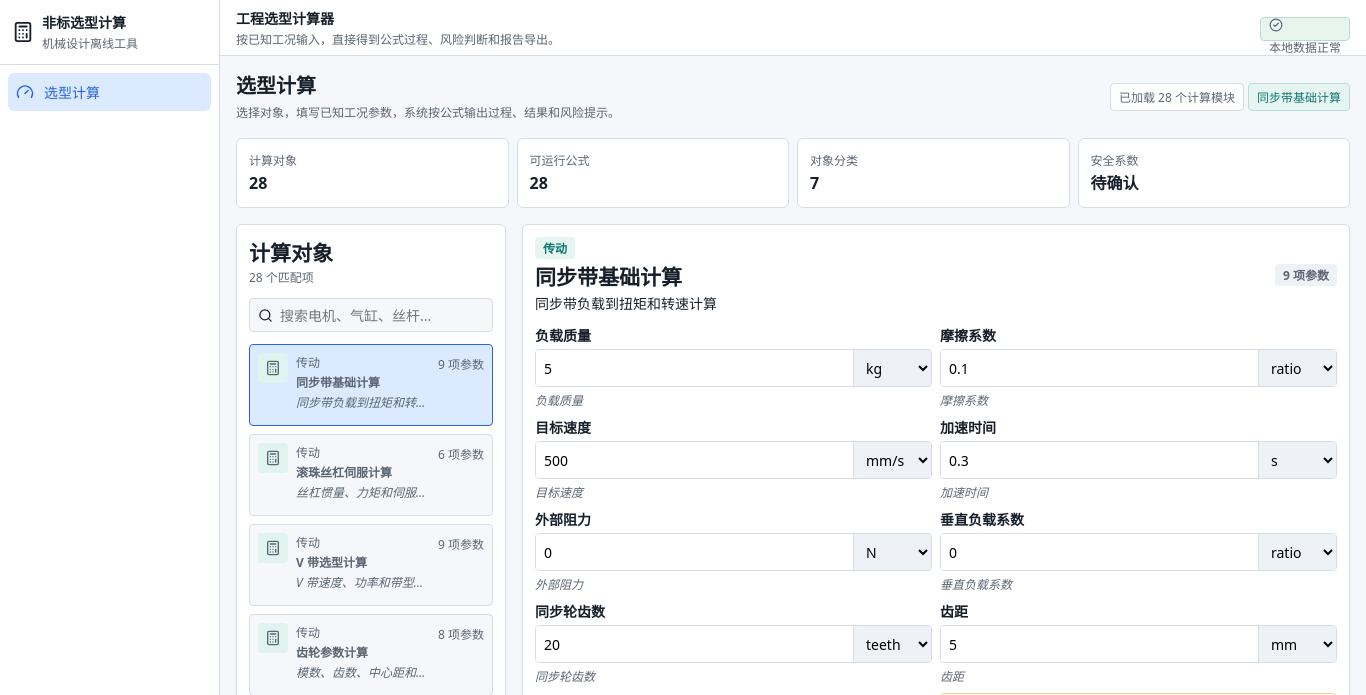
Test: App desktop shell › 支持按计算对象搜索常用模块
Check: the text "本地数据正常" is shown, box [1269,38,1341,56]
Type "气" into the field named "搜索计算对象" at (381, 315), box [278,304,484,326]
(page scrolled)
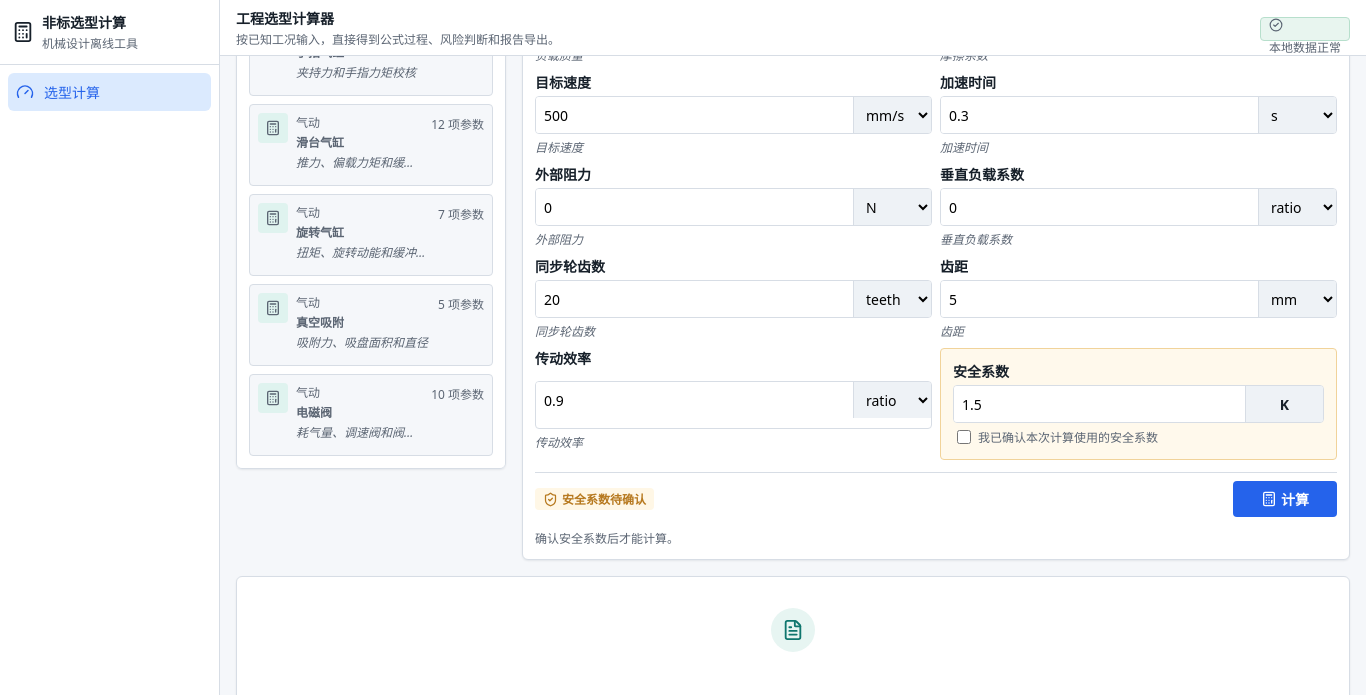
Check: the text "真空吸附" is shown, box [296,314,344,331]
Check: the text "电磁阀" is shown, box [296,404,332,421]
